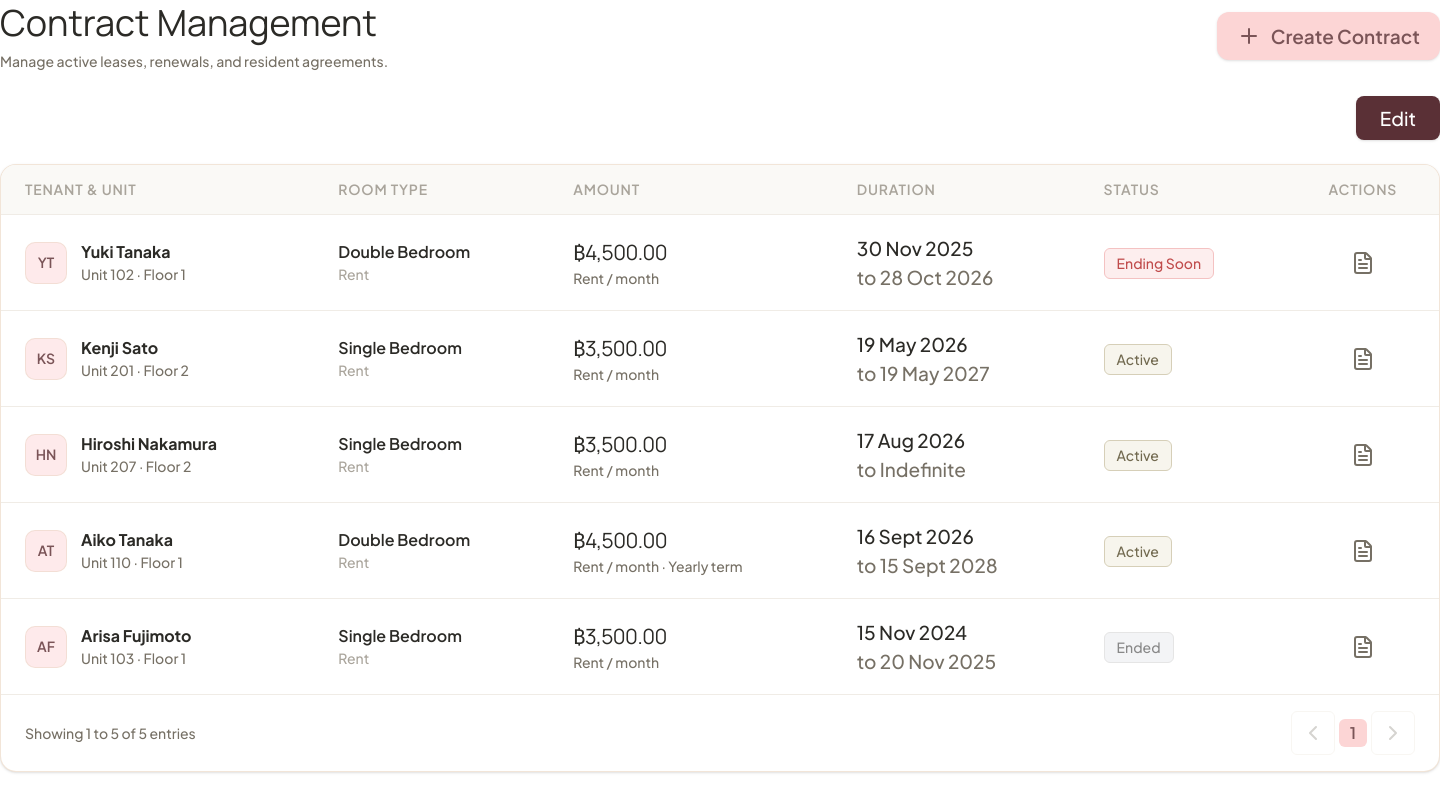
Test: Contract Management list › opens the Create Contract modal from the Create Contract button
Expected: the text "Yuki Tanaka" is shown, [81,240,186,264]
Click the button "Create Contract".
click(1328, 36)  # box [1217,12,1439,60]
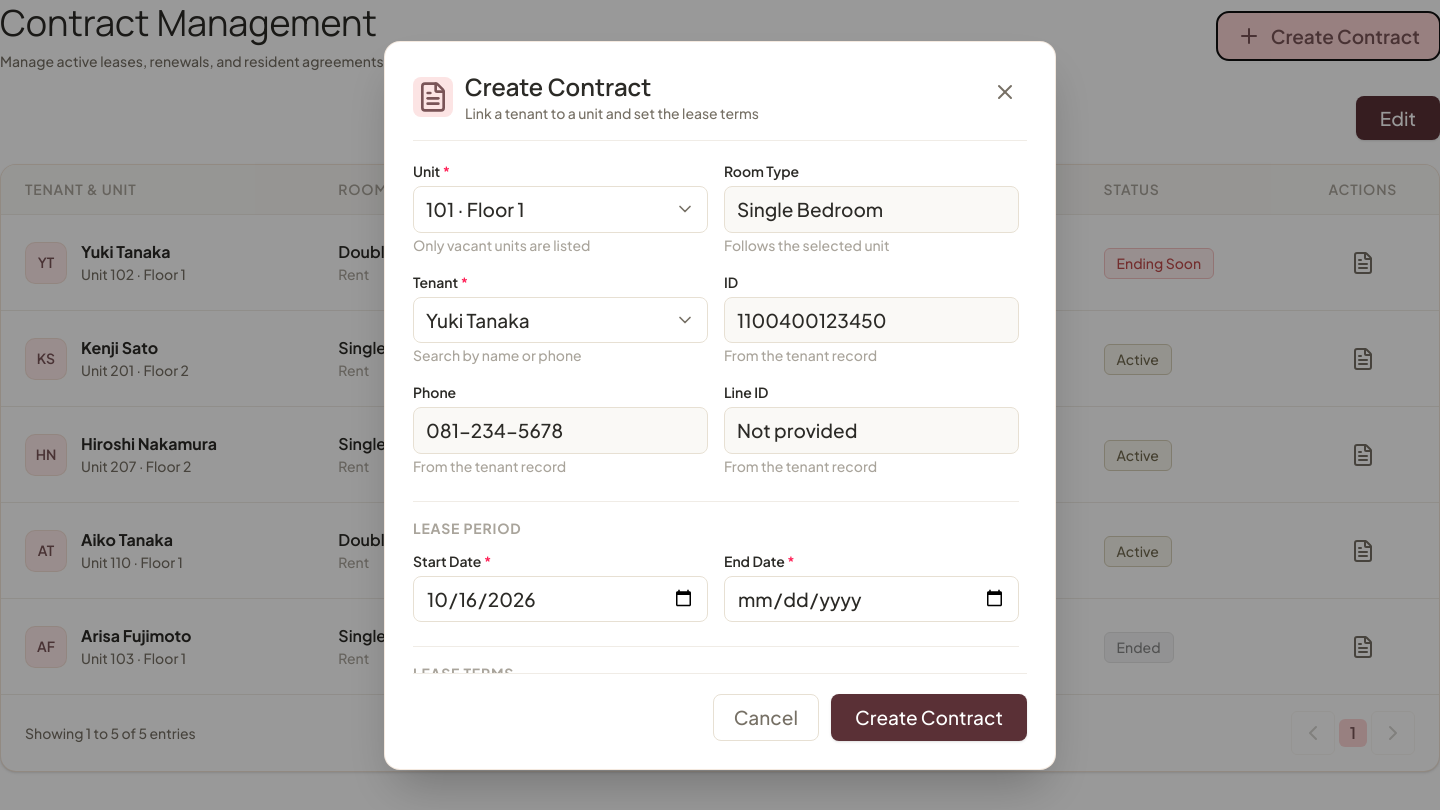
Now the heading "Create Contract" is shown, box [465,70,651,102]
Now the label labelled "Unit *" is shown, box [413,162,450,180]
